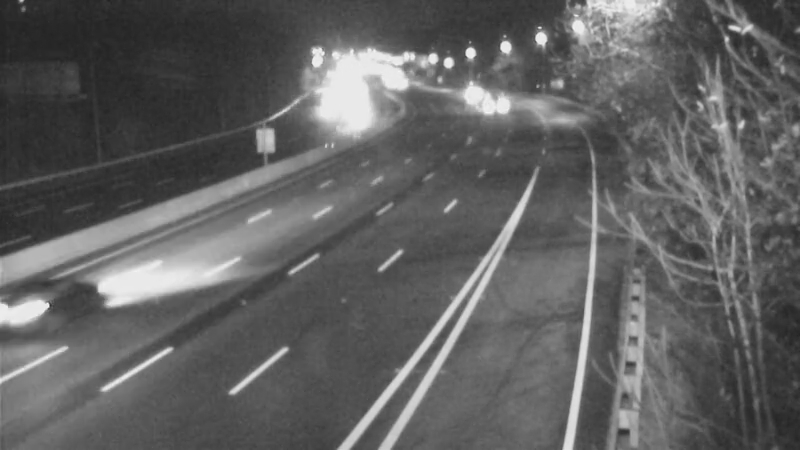vehicle: (1, 252, 93, 362), (435, 69, 485, 119), (469, 81, 519, 131)
